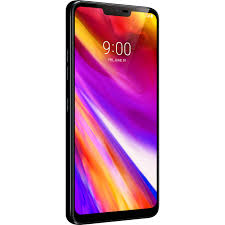lg: (61, 1, 163, 223)
